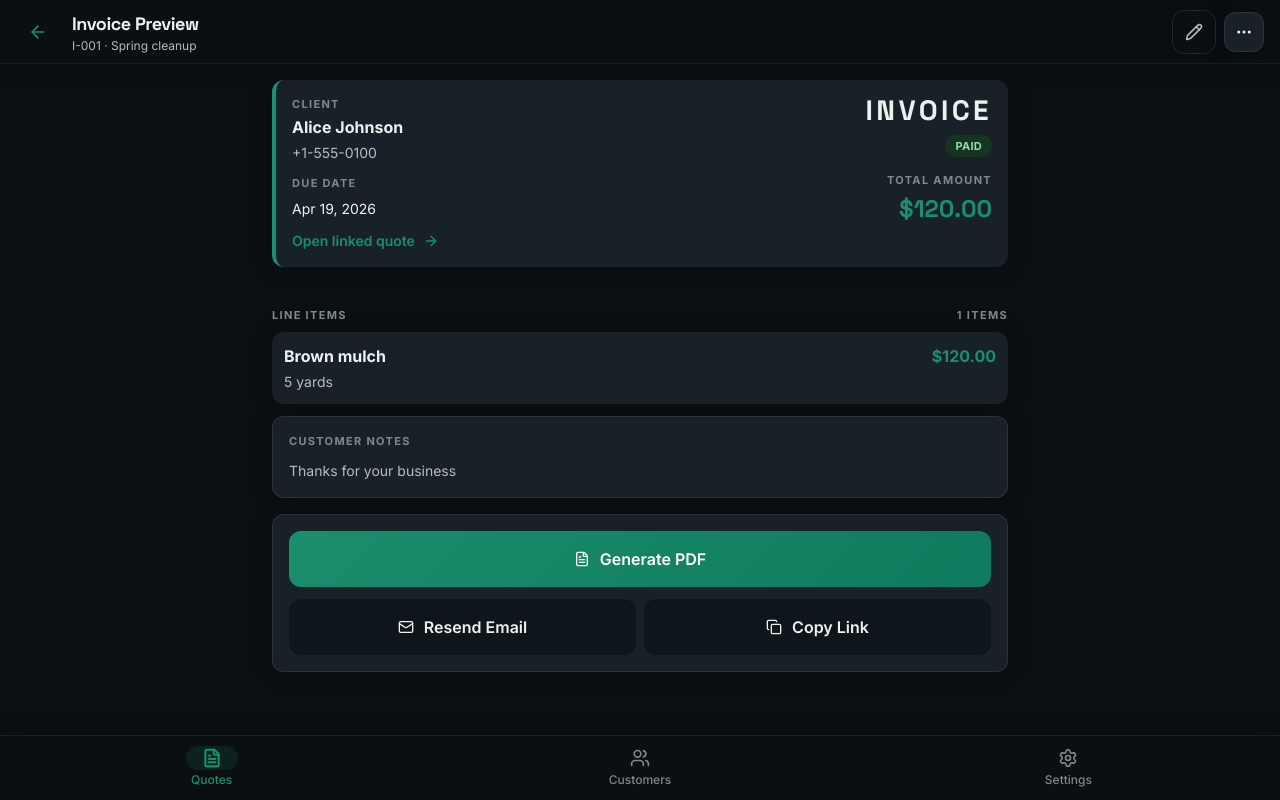
Scenario: InvoiceDetailScreen › marks a paid invoice as void from overflow and updates visible state
Step 1. Click the button named "more actions" → (1244, 32), box left=1224, top=12, right=1264, bottom=52
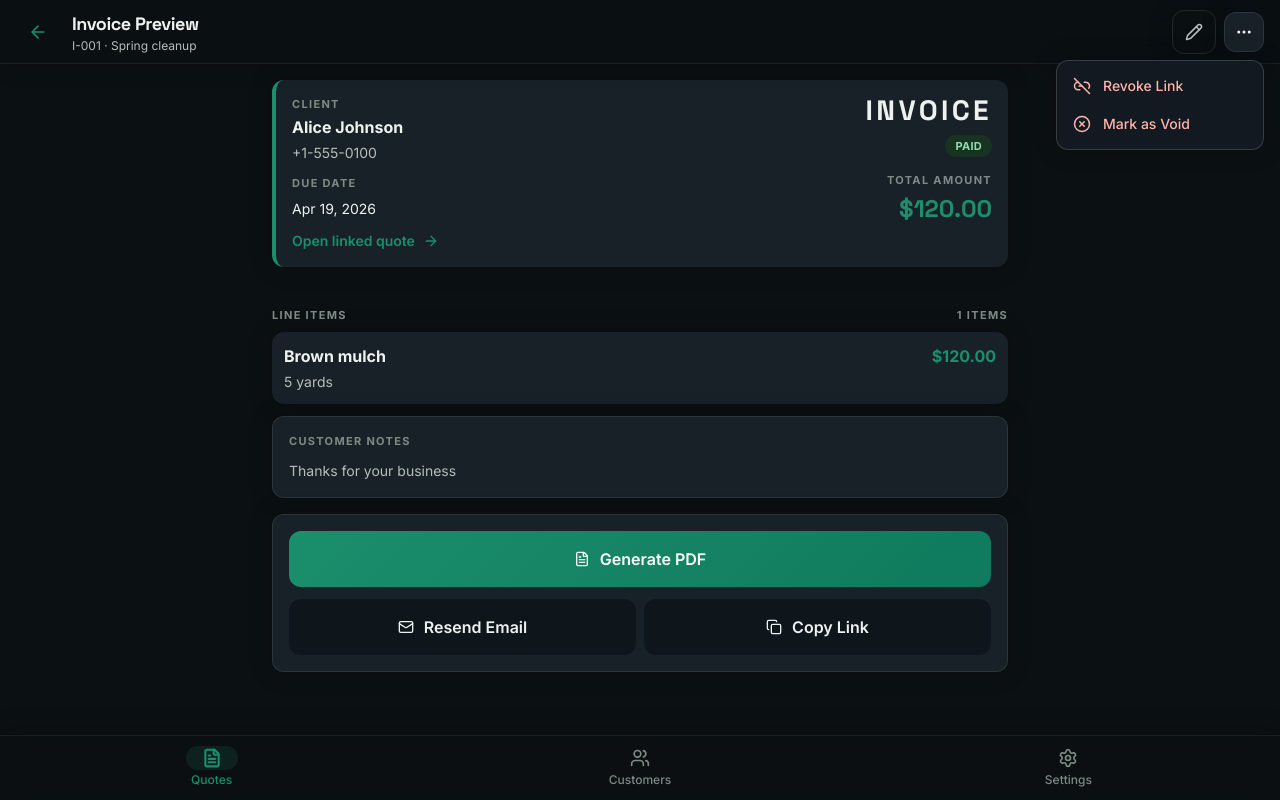
Step 2. Click the menu item "Mark as Void" → (1160, 124), box left=1063, top=105, right=1257, bottom=143
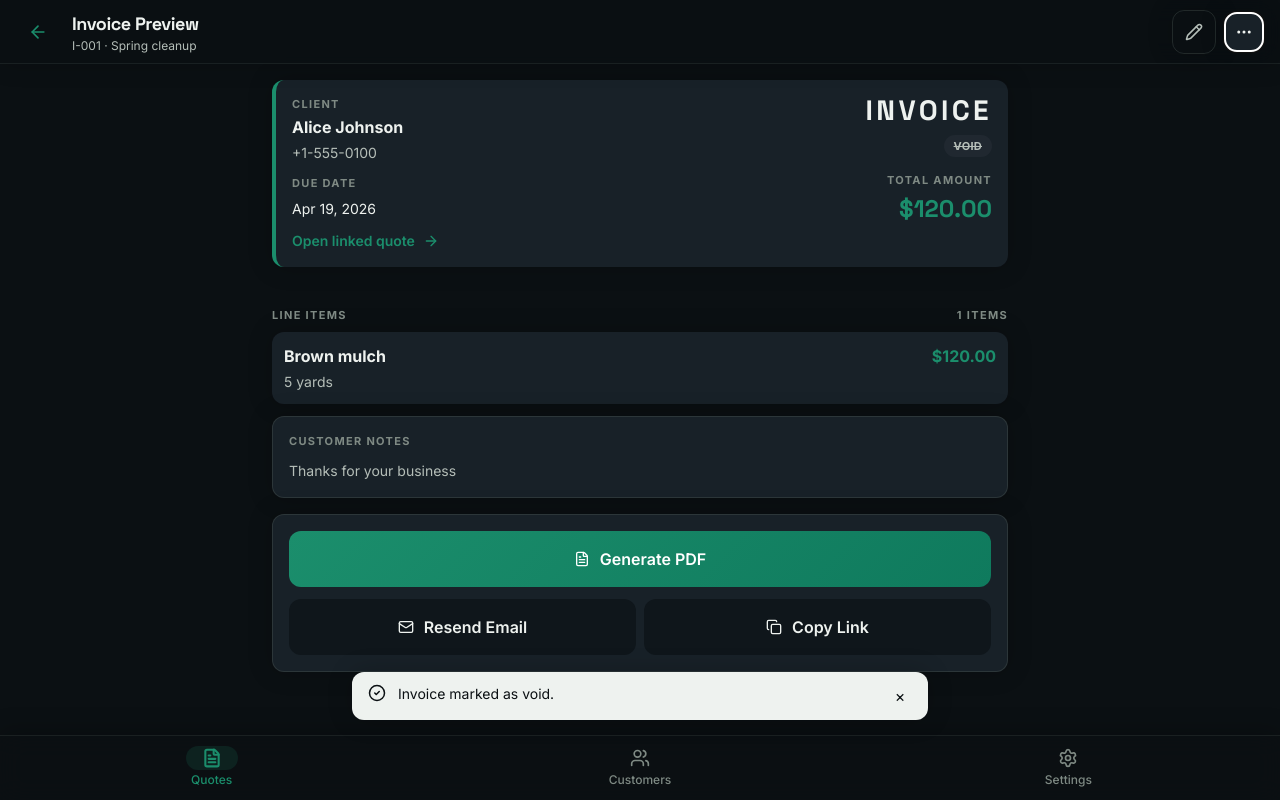
Result: the text "Invoice marked as void." is shown at left=398, top=685, right=554, bottom=702
